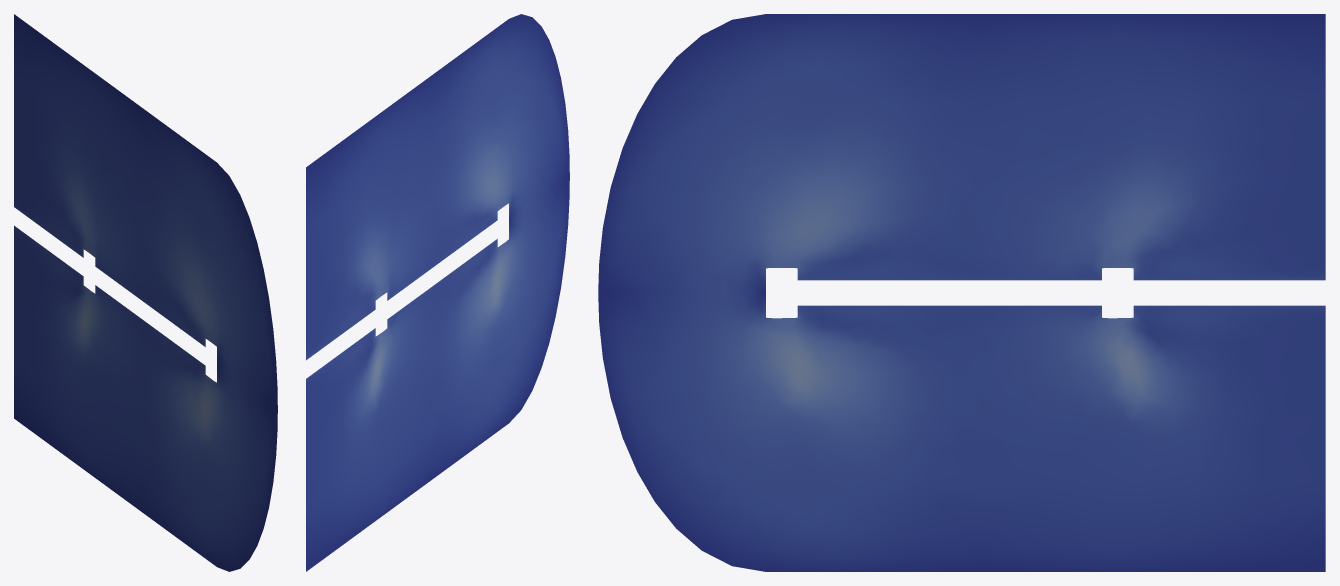
3 renders of one model, left to right at view 1: azimuth 30°, elevation 25°; view 2: azimuth 150°, elevation 25°; view 3: azimuth 270°, elevation 25°, orthographic. The views are drawn at different scales.
Parts seen in each view (by area): view 1: Shape_IndexedFaceSet; view 2: Shape_IndexedFaceSet; view 3: Shape_IndexedFaceSet.
Boxes of the visible parts, box(x1,y1,x2,y2) form: Shape_IndexedFaceSet: box(14, 14, 277, 571); Shape_IndexedFaceSet: box(306, 14, 569, 571); Shape_IndexedFaceSet: box(598, 14, 1325, 571).
Size of the model in its own units: 1.96e-05 by 110 by 130.
